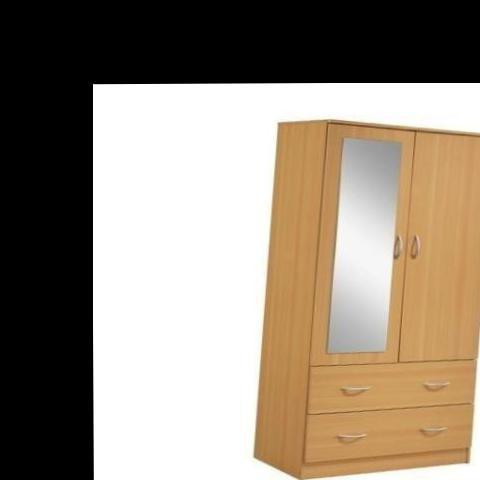Armario: (267, 119, 477, 480)
